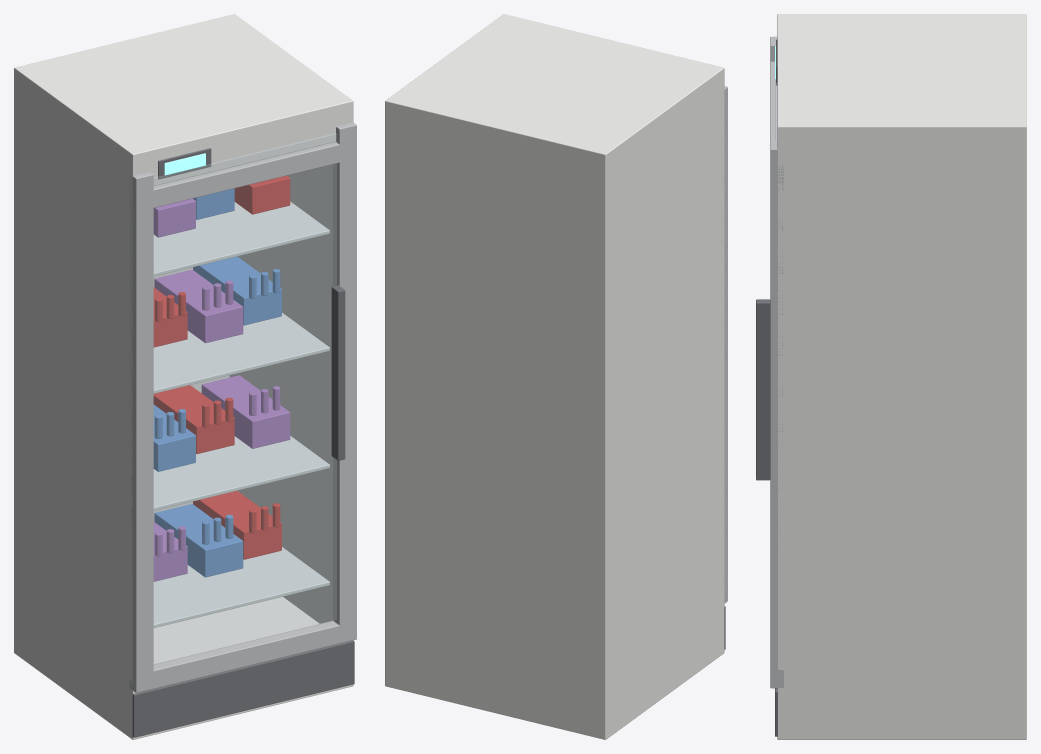
The model's file is specimen_fridge.glb.
The picture shows the model from 3 angles, left to right: view 1: azimuth 30°, elevation 25°; view 2: azimuth 150°, elevation 25°; view 3: azimuth 270°, elevation 25°; orthographic projection. The views are drawn at different scales.
Visible parts, largest first — view 1: specimen_fridge; view 2: specimen_fridge; view 3: specimen_fridge.
Part boxes in pixels (x1,y1,x2,y2): specimen_fridge: (14,14,356,739); specimen_fridge: (385,14,727,739); specimen_fridge: (756,14,1026,739).
Size of the model in its own units: 0.75 by 1.9 by 0.76.
